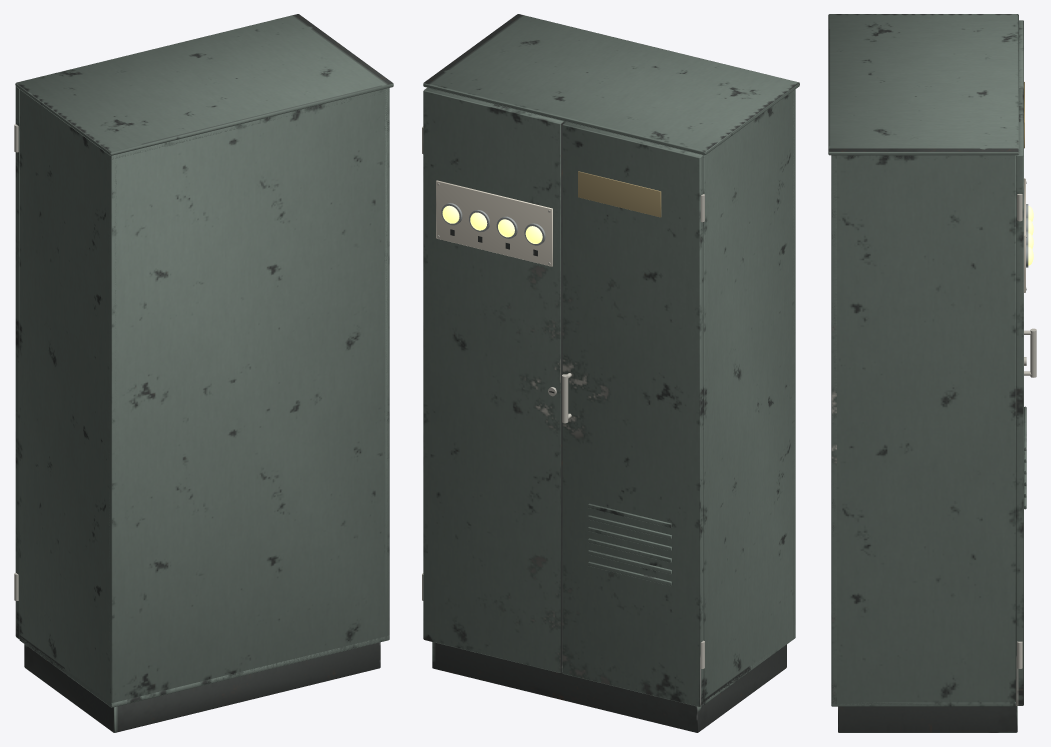
The model's file is LSB_ENV_CTL_RelayCabinet_Old_v03.fbx.
The picture shows the model from 3 angles, left to right: view 1: azimuth 30°, elevation 25°; view 2: azimuth 150°, elevation 25°; view 3: azimuth 270°, elevation 25°; orthographic projection.
Parts seen in each view (by area): view 1: Body, Door_R; view 2: Body, Door_R, Door_L, HandoverBoard; view 3: Body, Door_L, Door_R.
Part boxes in pixels (x1,y1,x2,y2): Body: (15, 14, 393, 732); Door_R: (14, 86, 19, 639); Body: (423, 14, 799, 732); Door_R: (562, 122, 704, 706); Door_L: (422, 88, 564, 672); HandoverBoard: (436, 180, 552, 266); Body: (828, 14, 1018, 732); Door_L: (1016, 88, 1028, 705); Door_R: (1019, 20, 1036, 509).
Size of the model in its own units: 1.02 by 2.01 by 0.65.
